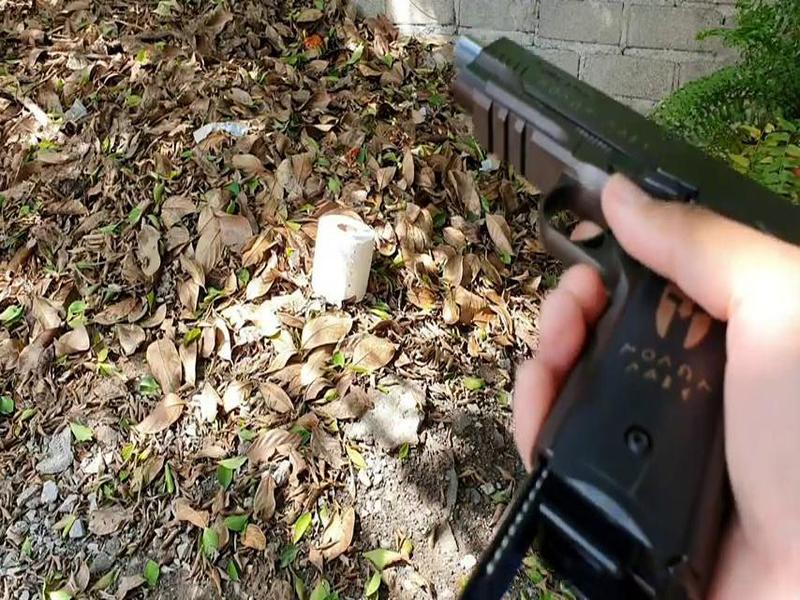Pistola: (439, 37, 800, 567)
